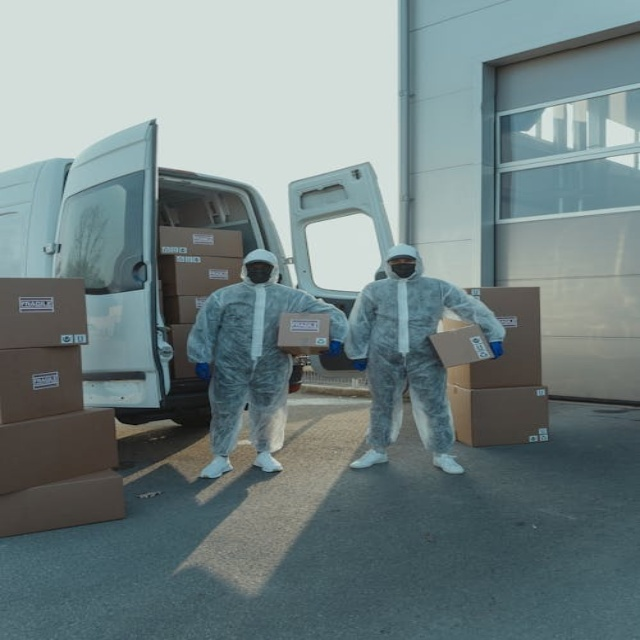Guantes: (195, 363, 210, 379), (489, 342, 503, 359), (329, 340, 343, 356), (353, 359, 367, 371)
Mascara: (246, 267, 273, 283), (390, 264, 416, 278)
